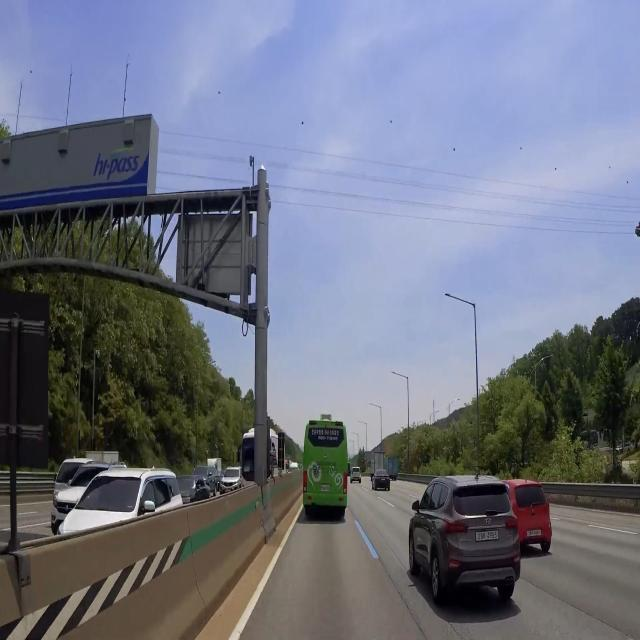car: (475, 532, 502, 548), (525, 526, 544, 538), (319, 480, 332, 496)
